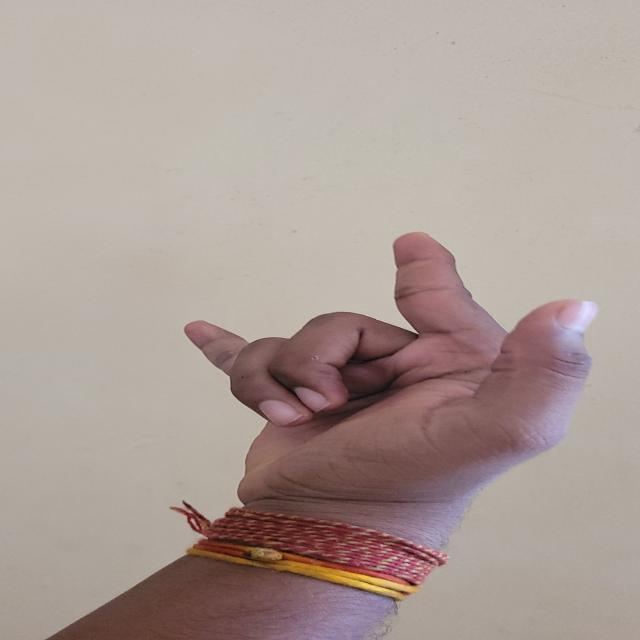i like you: (115, 222, 603, 516)
